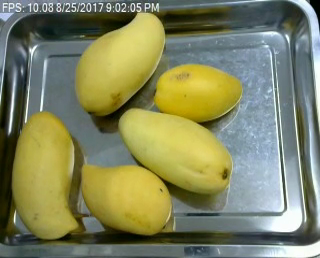Mango: (118, 104, 236, 195), (71, 4, 164, 116), (10, 109, 79, 240), (79, 162, 172, 234), (150, 61, 247, 120)
